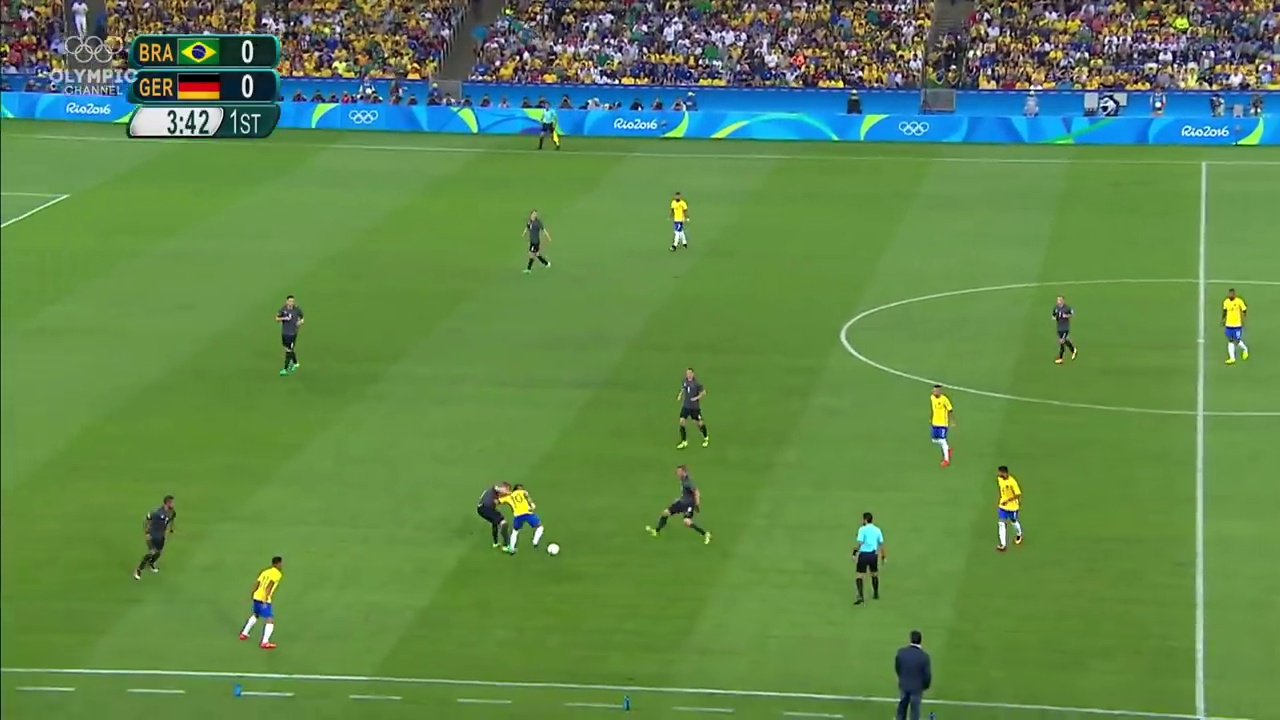ball: (545, 540, 562, 559)
player: (640, 461, 710, 543), (233, 551, 281, 653), (135, 497, 178, 586), (851, 512, 888, 605), (494, 484, 543, 546), (924, 384, 958, 466), (677, 366, 711, 443), (995, 462, 1022, 555), (1220, 289, 1250, 365), (475, 480, 508, 548), (275, 292, 302, 369), (522, 210, 552, 272), (1053, 295, 1076, 362), (662, 190, 686, 248)
